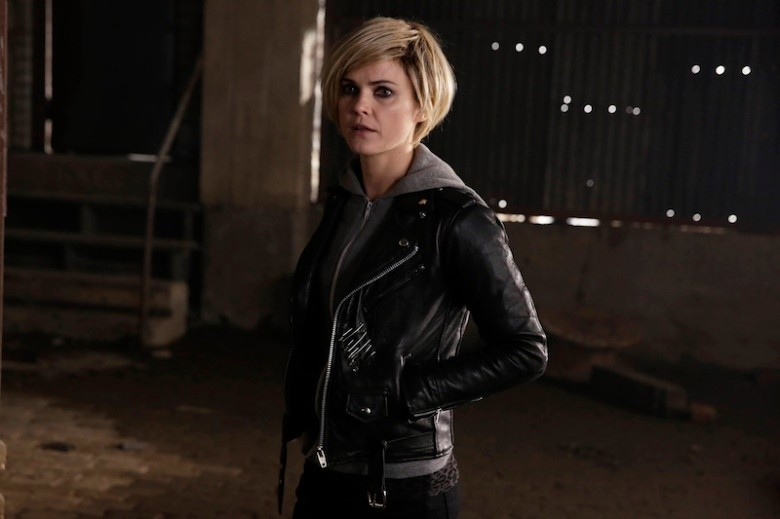face_no_mask: (325, 17, 457, 152)
